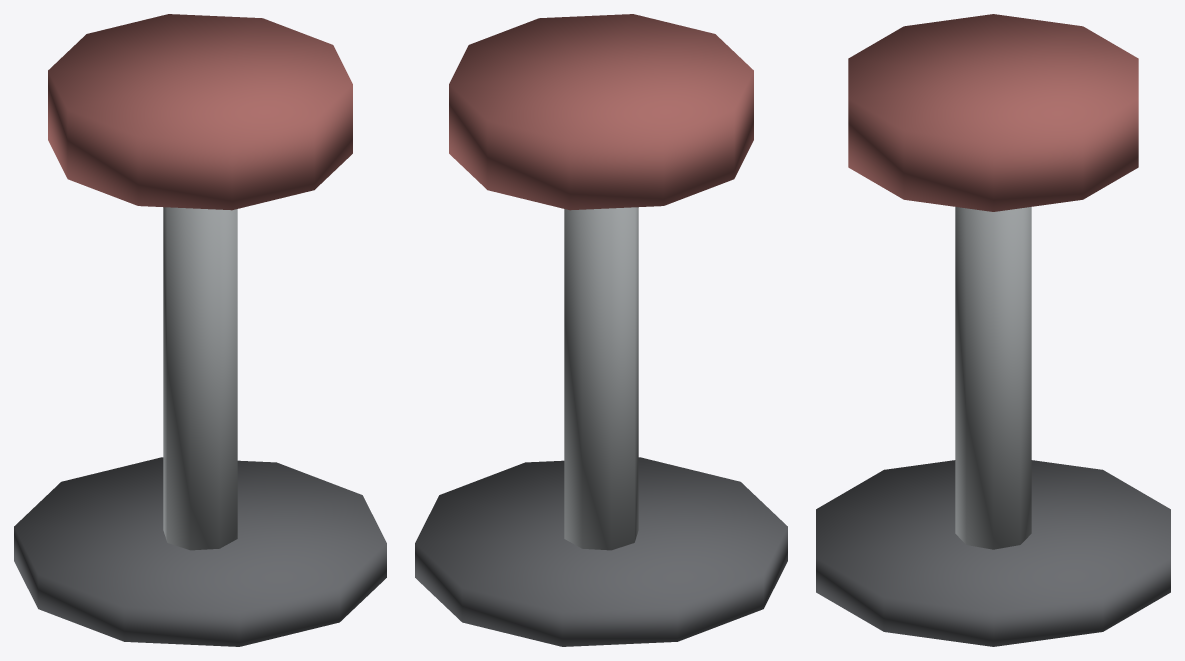
Rendered from diner_counter_stool_module.glb.
The picture shows the model from 3 angles, left to right: view 1: azimuth 30°, elevation 25°; view 2: azimuth 150°, elevation 25°; view 3: azimuth 270°, elevation 25°; orthographic projection.
Parts seen in each view (by area): view 1: world; view 2: world; view 3: world.
Part boxes in pixels (left/top/right/bottom): world: left=14, top=14, right=386, bottom=646; world: left=415, top=14, right=787, bottom=646; world: left=816, top=14, right=1170, bottom=646.
Bounding box in the file's own units: 0.44 × 0.665 × 0.4185.
